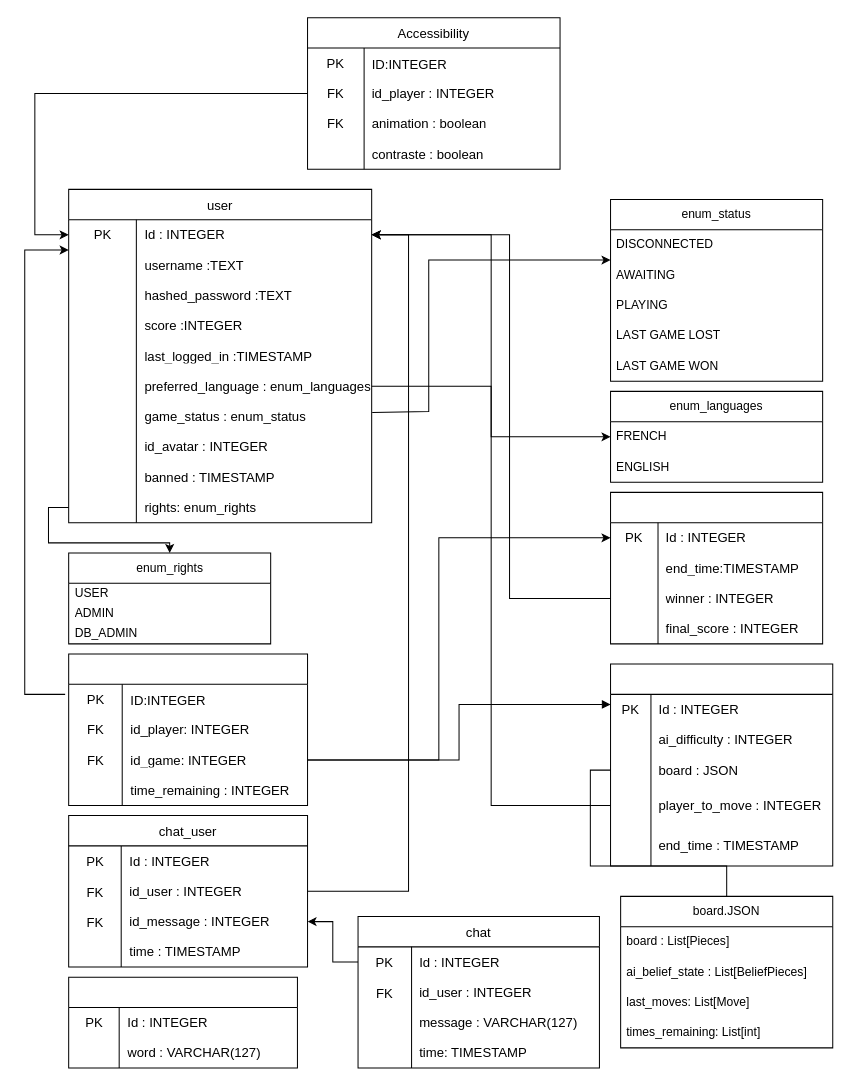
Image size: 850x1086. Some labels were removed from this diagram. Here are the shapes that lost their labels. From the top down, the box of each, then its label:
(610, 491, 823, 644): game
(68, 653, 308, 805): game_player
(610, 663, 833, 866): saved_game
(68, 976, 297, 1068): banned_words
